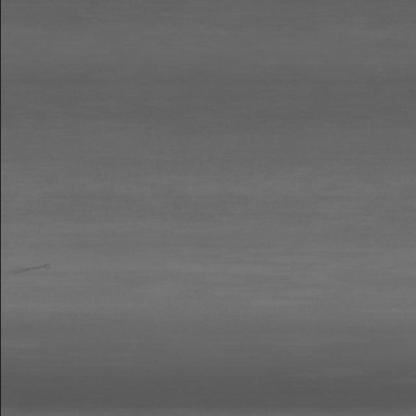water_spot: (2, 255, 72, 294)
